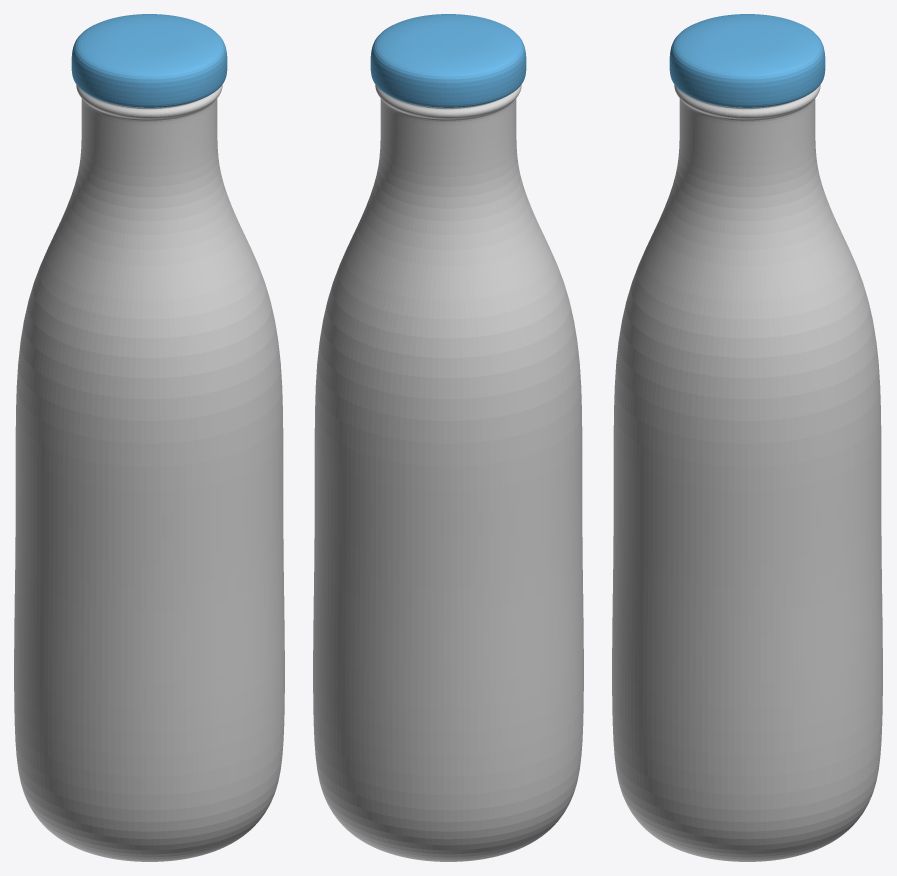
Rendered from milk.fbx.
3 renders of one model, left to right at view 1: azimuth 30°, elevation 25°; view 2: azimuth 150°, elevation 25°; view 3: azimuth 270°, elevation 25°, orthographic.
Visible parts, largest first — view 1: Milk; view 2: Milk; view 3: Milk.
Part boxes in pixels (x1=…): Milk: x1=14, y1=14, x2=284, y2=861; Milk: x1=313, y1=14, x2=583, y2=861; Milk: x1=612, y1=14, x2=882, y2=861.
Bounding box in the file's own units: 56.98 × 182 × 56.98.
